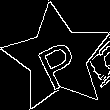P_NW: (30, 27, 85, 89)
